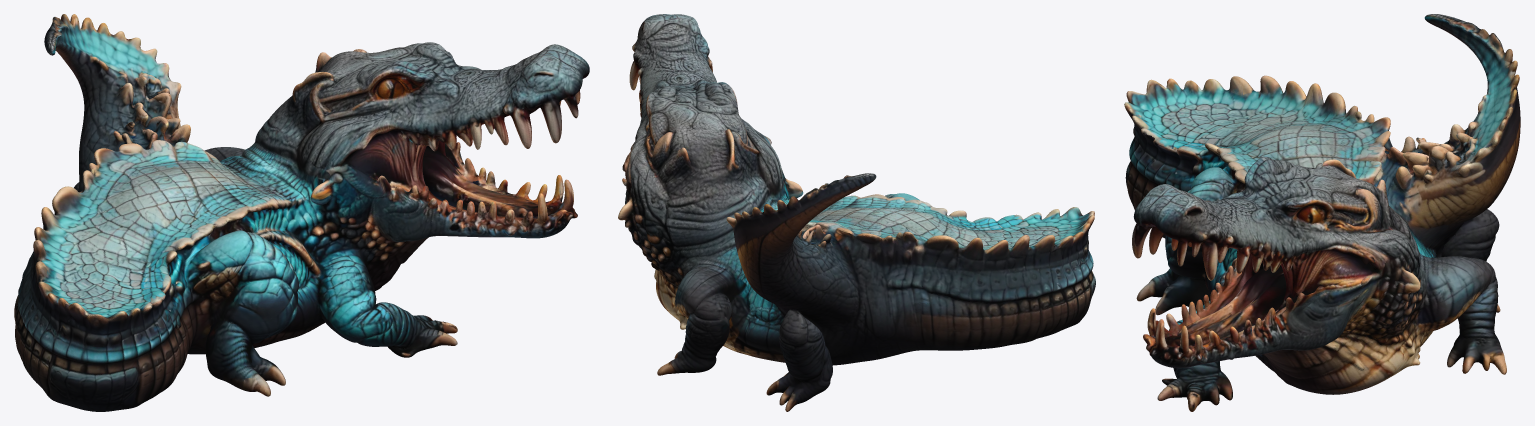
File: crocodile.glb
3 renders of one model, left to right at view 1: azimuth 30°, elevation 25°; view 2: azimuth 150°, elevation 25°; view 3: azimuth 270°, elevation 25°, orthographic. The views are drawn at different scales.
Parts seen in each view (by area): view 1: tripo_node_cff89eb2-60e3-45af-83f5-238ed624a25f; view 2: tripo_node_cff89eb2-60e3-45af-83f5-238ed624a25f; view 3: tripo_node_cff89eb2-60e3-45af-83f5-238ed624a25f.
Boxes of the visible parts, x1,y1,x2,y2 form: tripo_node_cff89eb2-60e3-45af-83f5-238ed624a25f: (14, 14, 589, 411); tripo_node_cff89eb2-60e3-45af-83f5-238ed624a25f: (618, 14, 1095, 411); tripo_node_cff89eb2-60e3-45af-83f5-238ed624a25f: (1124, 14, 1520, 411).
Size of the model in its own units: 1 by 0.4969 by 0.6503.
Materials: 1 (1 with a texture image).
